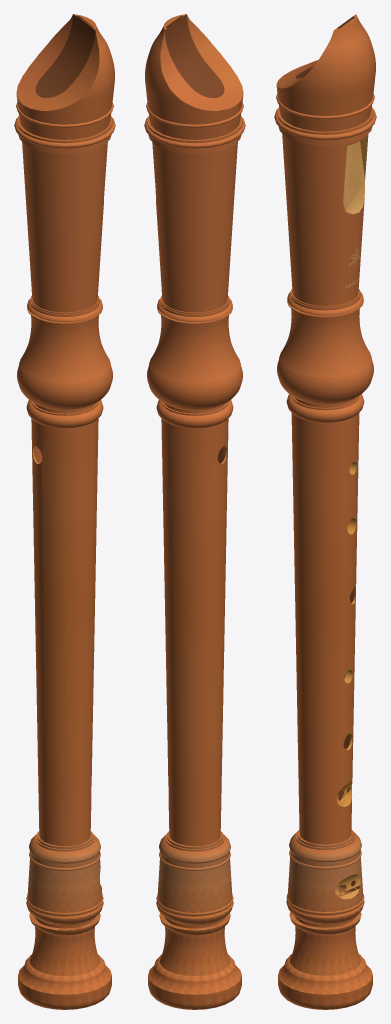
Rendered from Recorder.fbx.
3 views of the same model, side by side, from view 1: azimuth 30°, elevation 25°; view 2: azimuth 150°, elevation 25°; view 3: azimuth 330°, elevation 25° (orthographic).
Visible parts, largest first — view 1: Model; view 2: Model; view 3: Model.
Boxes of the visible parts, <box> form: Model: <box>14,14,115,1009</box>; Model: <box>144,14,245,1009</box>; Model: <box>274,14,376,1009</box>.
Bounding box in the file's own units: 3.45 × 36.32 × 3.45.
3 materials, 3 textured.
